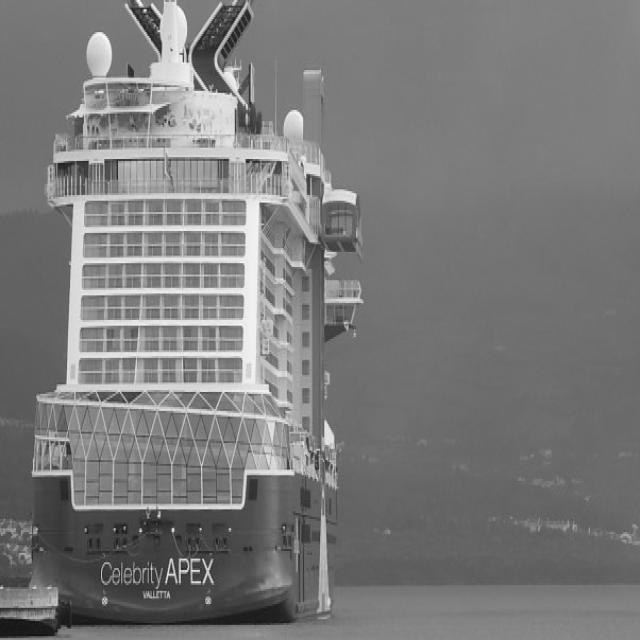cruises: (28, 1, 368, 640)
